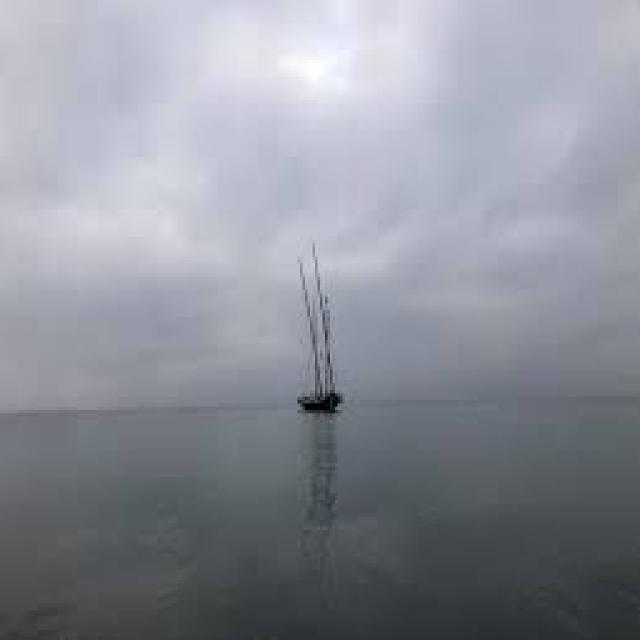fishing boat: (282, 259, 355, 412)
